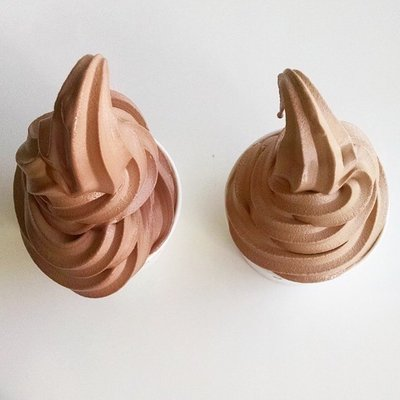pizza: (12, 53, 183, 300)
